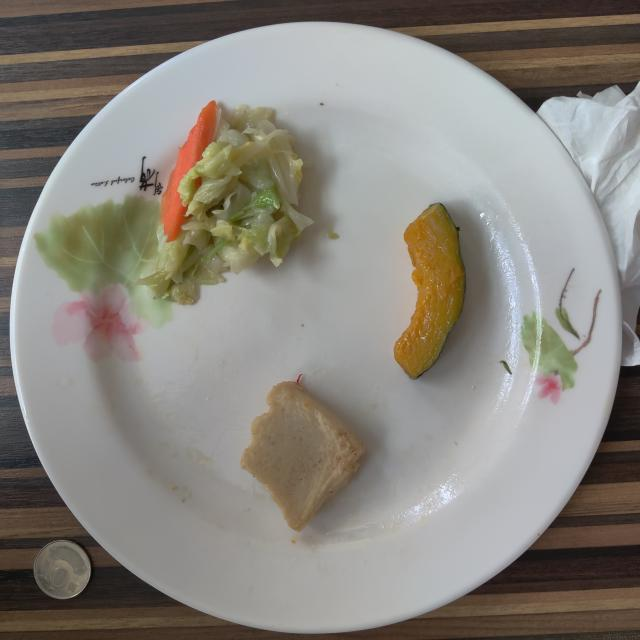cabbage: (139, 101, 312, 304)
coin: (34, 540, 91, 599)
creamy tofu -without sauce-: (241, 381, 365, 531)
pumpkin: (394, 202, 465, 379)
